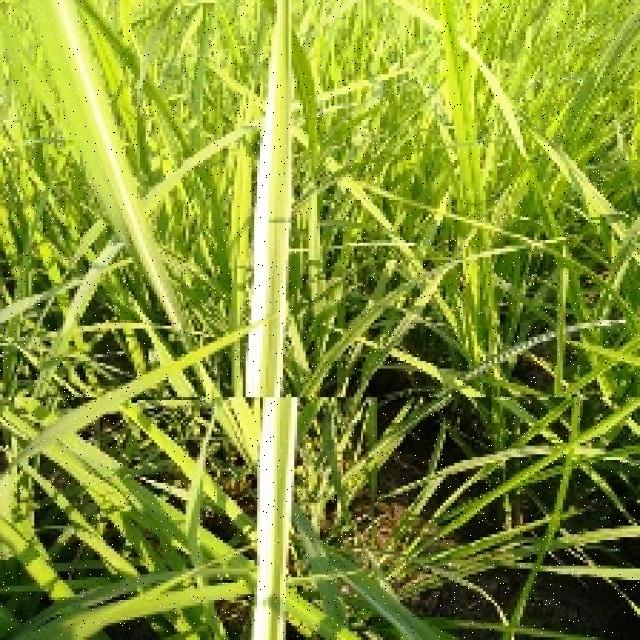health: (0, 0, 640, 381)
